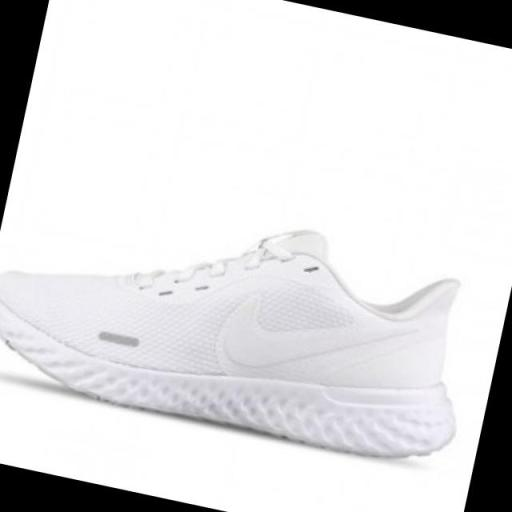Nike: (212, 271, 443, 410)
